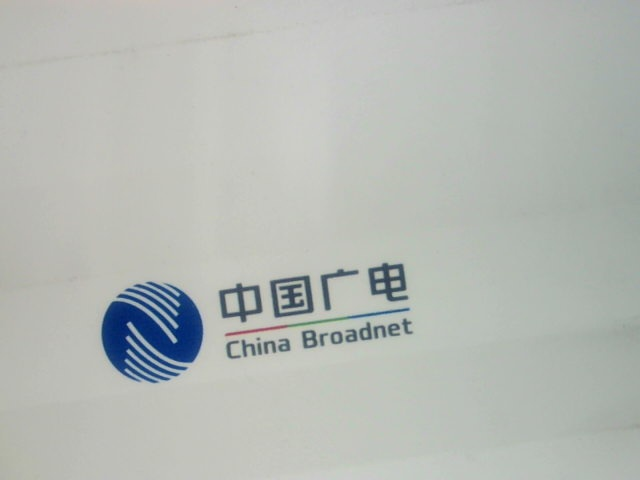AW_ChinaBroadNet: (72, 240, 443, 391)
